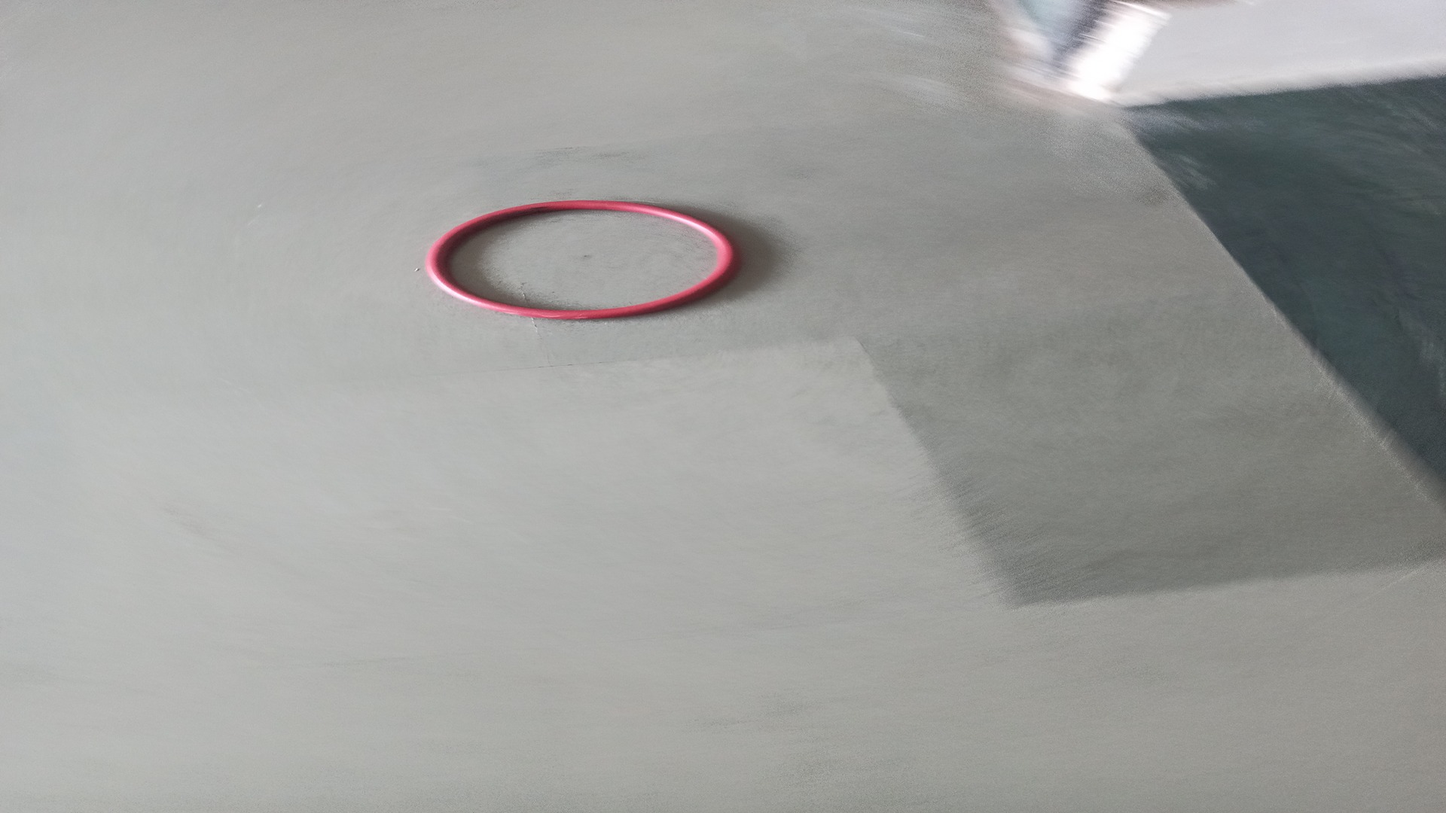Red ring: (426, 198, 737, 321)
